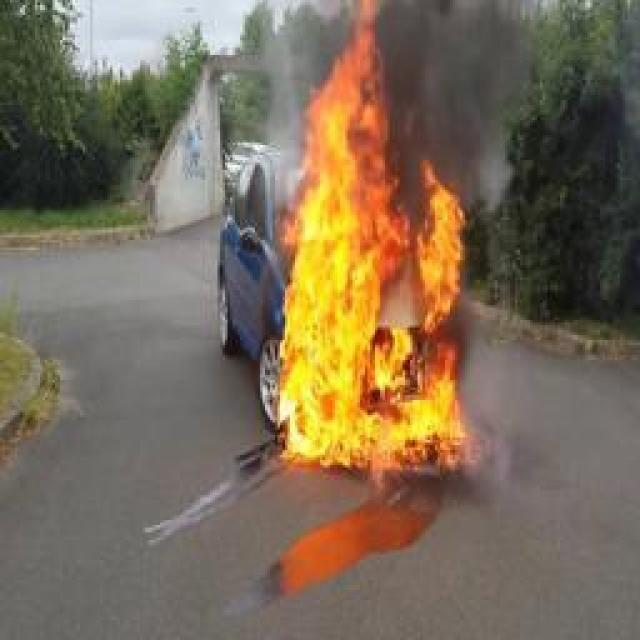Fire: (280, 6, 468, 464)
